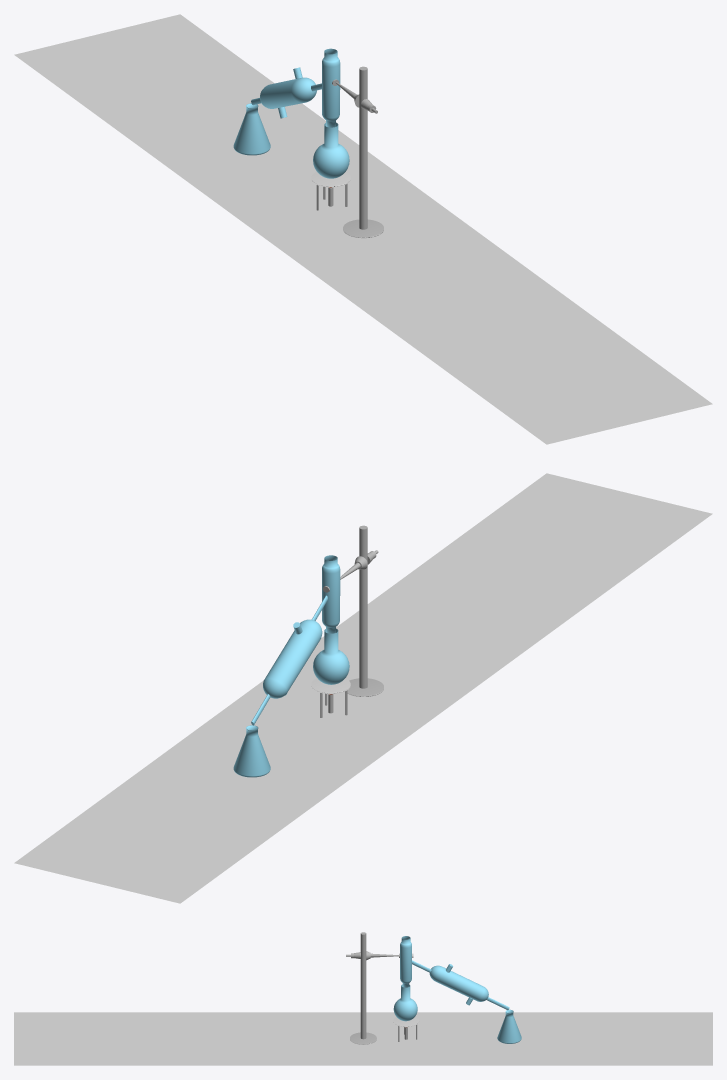
File: distillation1.gltf
3 views of the same model, one above another, from view 1: azimuth 30°, elevation 25°; view 2: azimuth 150°, elevation 25°; view 3: azimuth 270°, elevation 25° (orthographic). The views are drawn at different scales.
Parts seen in each view (by area): view 1: Plane, Cylinder, Sphere.001, Sphere.002, Sphere, Circle; view 2: Plane, Sphere.002, Cylinder, Sphere.001, Circle, Sphere; view 3: Plane, Sphere.002, Cylinder, Sphere.001, Sphere, Circle, Cylinder.005.
Boxes of the visible parts, left/top/right/bottom form: Plane: left=14, top=14, right=712, bottom=444; Cylinder: left=359, top=66, right=367, bottom=229; Sphere.001: left=313, top=122, right=349, bottom=178; Sphere.002: left=260, top=77, right=316, bottom=108; Sphere: left=322, top=48, right=340, bottom=127; Circle: left=233, top=103, right=270, bottom=155; Plane: left=14, top=473, right=712, bottom=903; Sphere.002: left=263, top=619, right=322, bottom=698; Cylinder: left=359, top=525, right=367, bottom=688; Sphere.001: left=313, top=628, right=349, bottom=684; Circle: left=233, top=725, right=270, bottom=777; Sphere: left=322, top=555, right=340, bottom=633; Plane: left=14, top=1012, right=712, bottom=1065; Sphere.002: left=429, top=965, right=488, bottom=1001; Cylinder: left=360, top=932, right=366, bottom=1039; Sphere.001: left=393, top=984, right=417, bottom=1021; Sphere: left=400, top=936, right=411, bottom=987; Circle: left=497, top=1009, right=521, bottom=1043; Cylinder.005: left=350, top=1032, right=376, bottom=1044.
Bounding box in the file's own units: 2 × 1.86 × 11.09.
